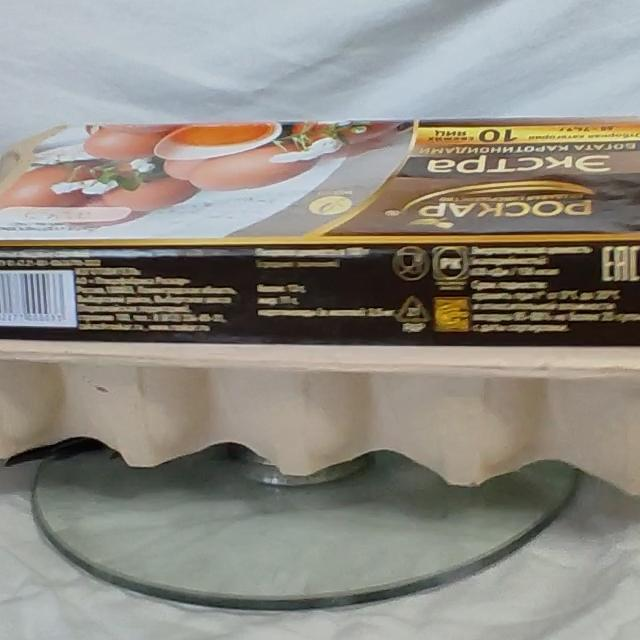egg: (0, 93, 640, 523)
